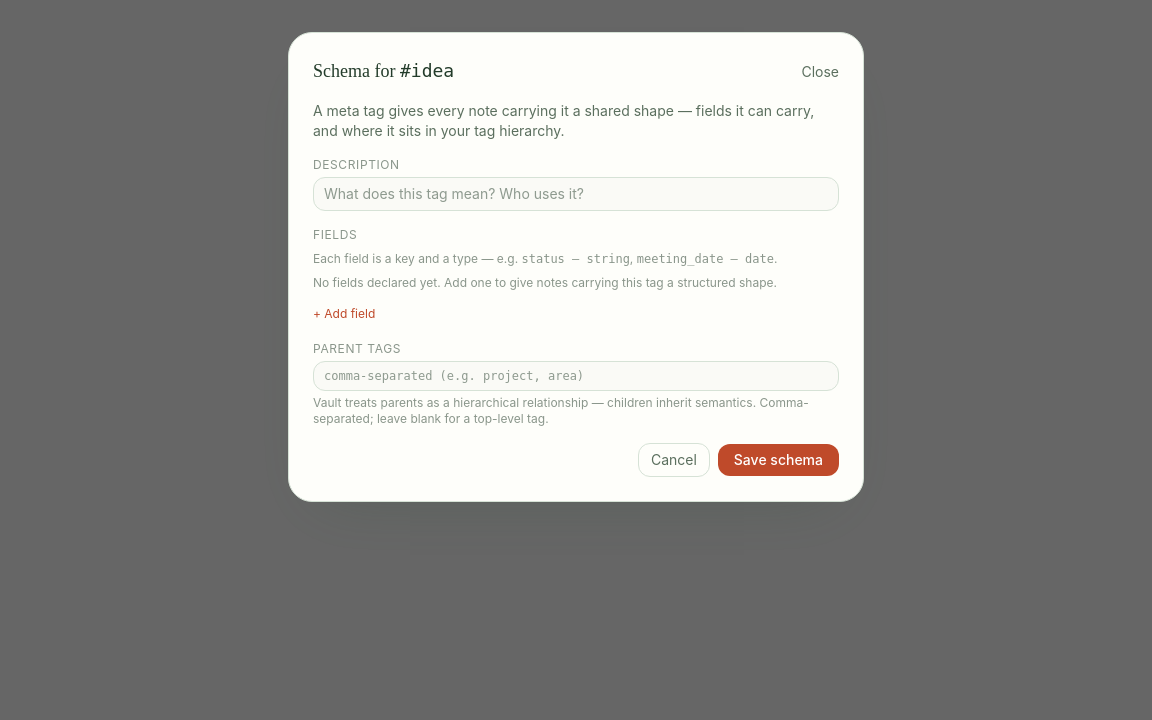
TagSchemaEditor › adding a field surfaces the existing-notes warning
The width and height of the screenshot is (1152, 720).
Expected: the text "No fields declared yet" is shown, [313,275,777,290]
Expected: the text "doesn't retroactively update notes" is not shown
Click the button "+ Add field" at coordinates (344, 314), box [313,306,375,322]
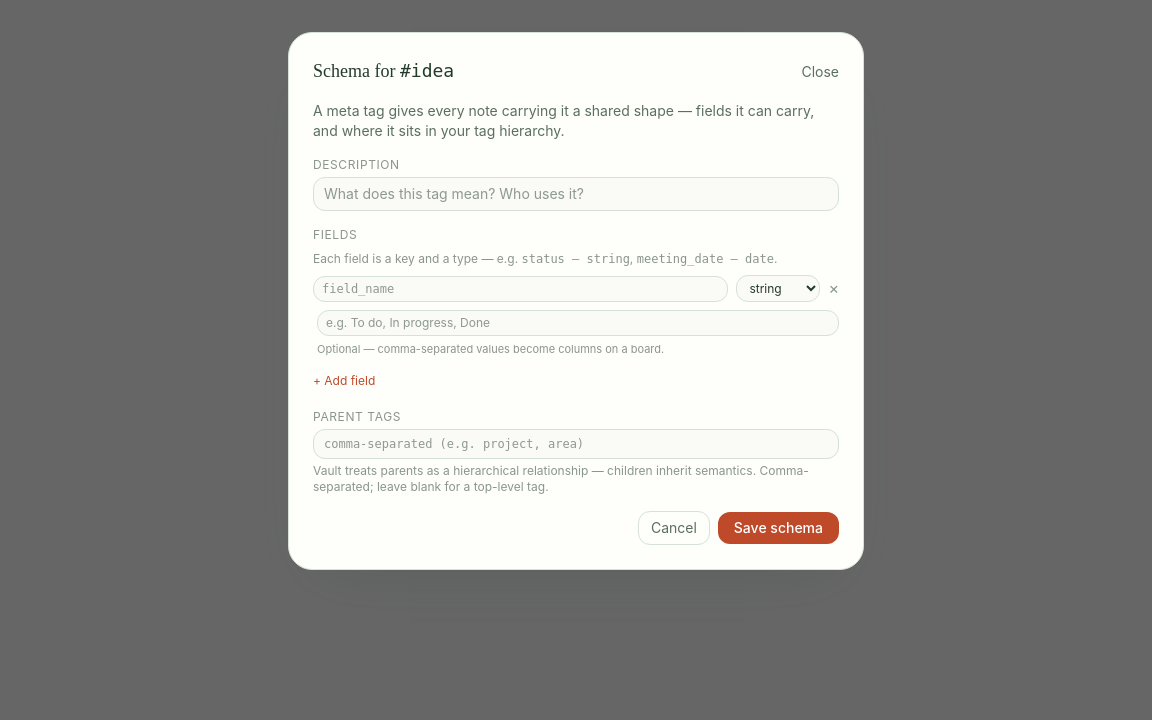
Type "summary" into the field named "field name" at coordinates (521, 288), box [313,276,728,302]
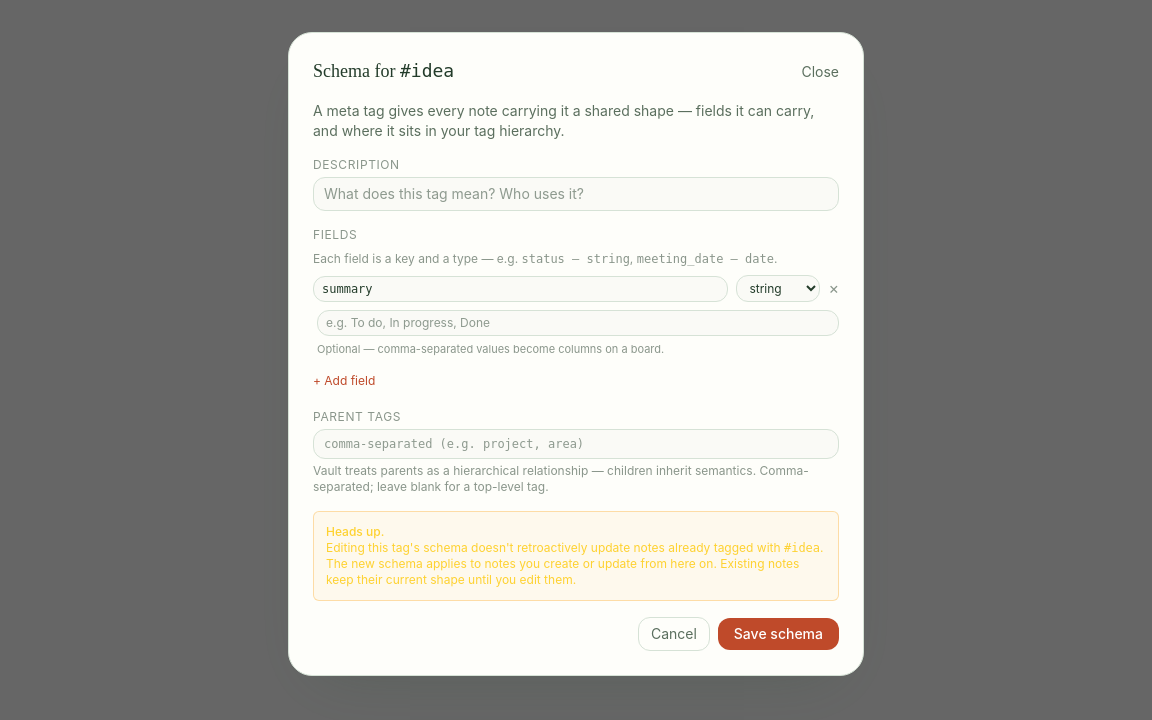
Now the text "doesn't retroactively update notes" is shown, box [326,540,781,554]
